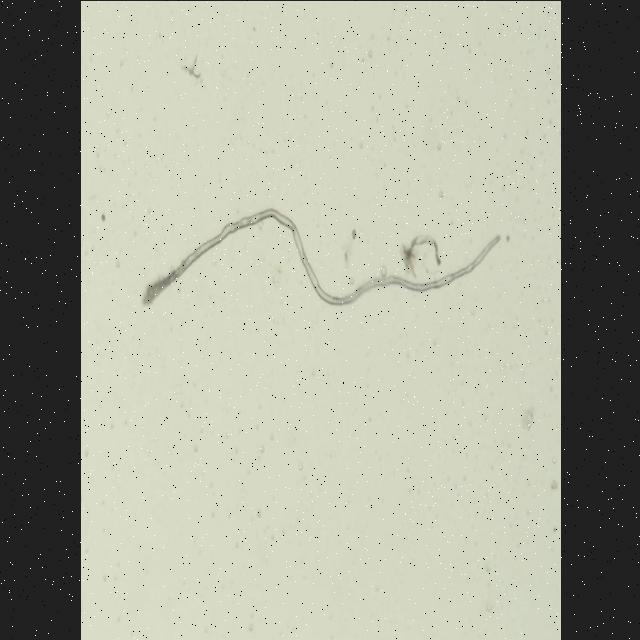Fibre: (140, 208, 500, 310)
